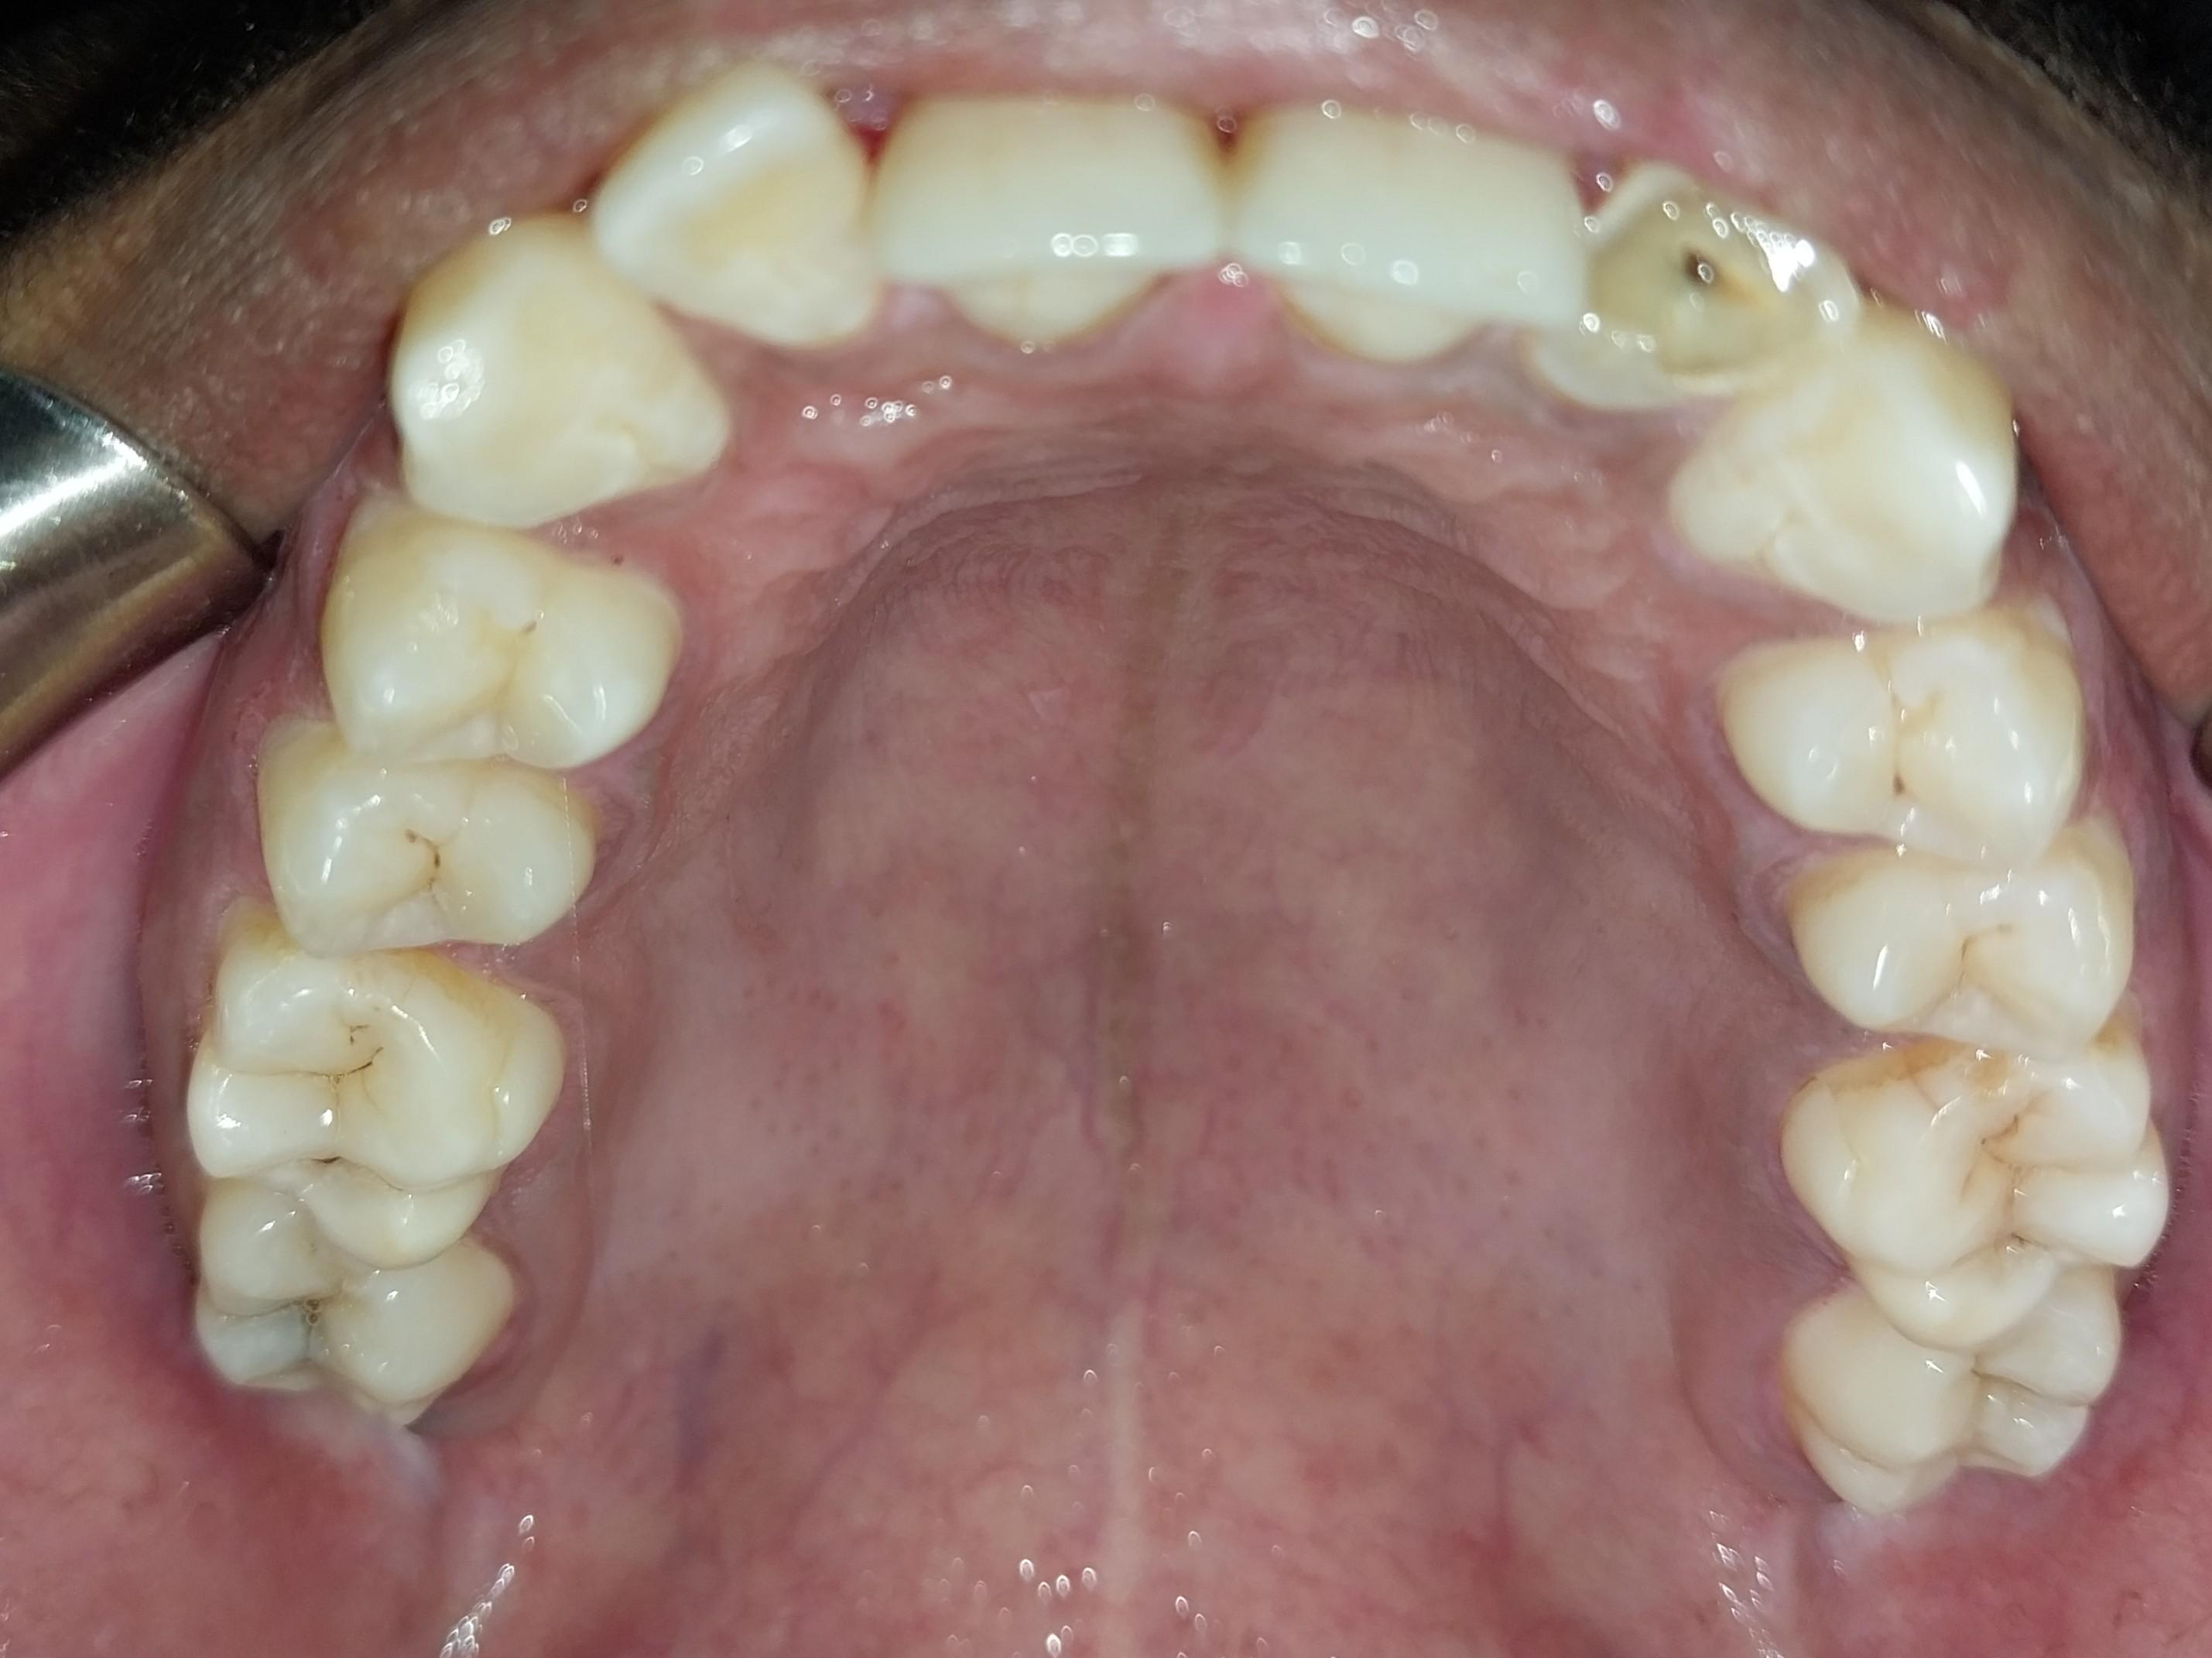D: (183, 899, 560, 1265), (1727, 598, 2093, 870), (1542, 147, 1857, 442), (260, 721, 594, 959), (193, 1185, 505, 1437)
